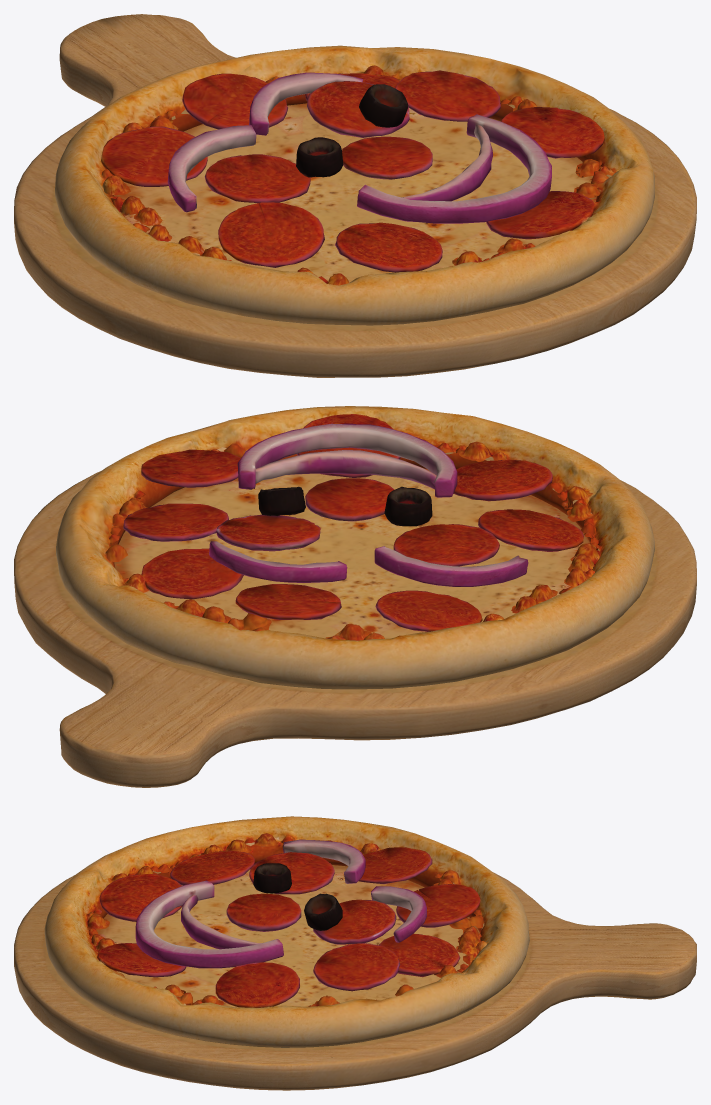
The model's file is inf_pizza_pepperoni.fbx.
3 renders of one model, top to bottom at view 1: azimuth 30°, elevation 25°; view 2: azimuth 150°, elevation 25°; view 3: azimuth 270°, elevation 25°, orthographic. The views are drawn at different scales.
Parts seen in each view (by area): view 1: meshes[0]; view 2: meshes[0]; view 3: meshes[0].
Boxes of the visible parts, x1=… form: meshes[0]: x1=14, y1=14, x2=696, y2=377; meshes[0]: x1=14, y1=406, x2=696, y2=787; meshes[0]: x1=14, y1=816, x2=696, y2=1090.
Bounding box in the file's own units: 81.45 × 16.21 × 99.8.
1 material, 1 textured.
